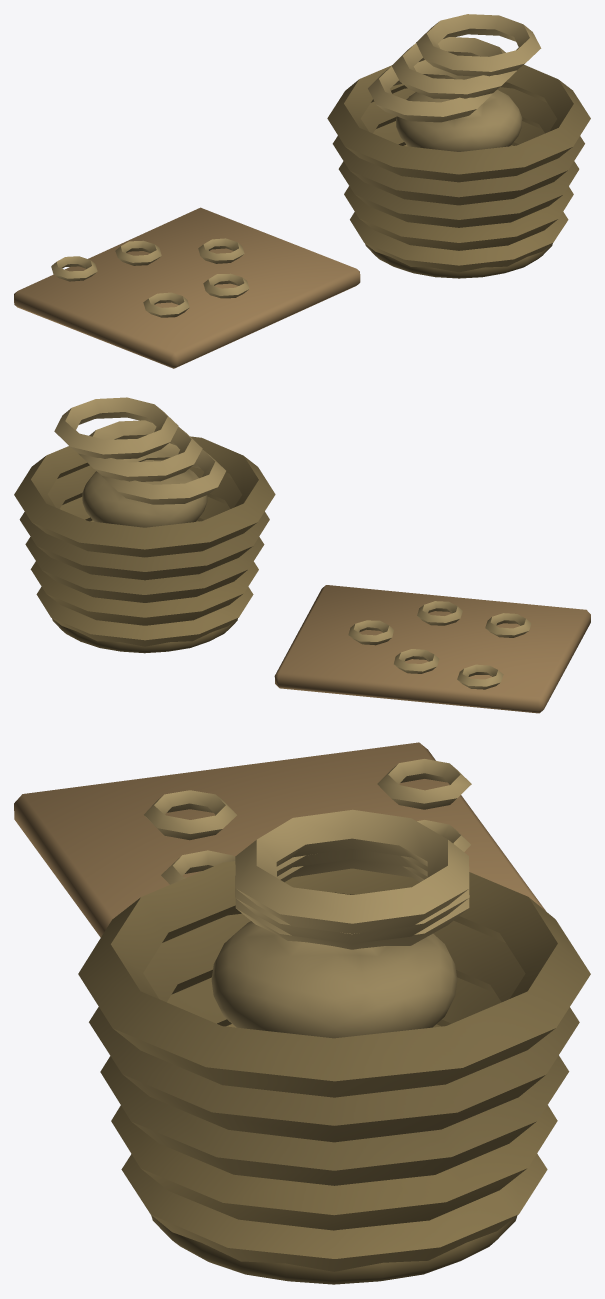
Rendered from knot_board_b.glb.
3 renders of one model, top to bottom at view 1: azimuth 30°, elevation 25°; view 2: azimuth 150°, elevation 25°; view 3: azimuth 270°, elevation 25°, orthographic. The views are drawn at different scales.
Parts seen in each view (by area): view 1: Surface; view 2: Surface; view 3: Surface.
Boxes of the visible parts, left/top/right/bottom form: Surface: left=14, top=14, right=590, bottom=368; Surface: left=14, top=397, right=590, bottom=713; Surface: left=14, top=742, right=590, bottom=1284.
Bounding box in the file's own units: 3.35 × 1.16 × 1.6.
